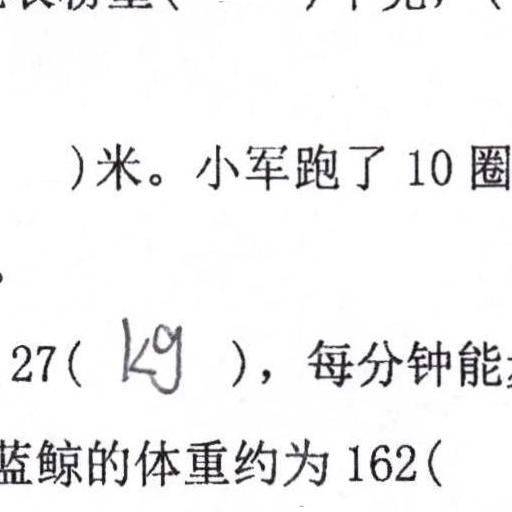ans: (112, 310, 185, 396)
